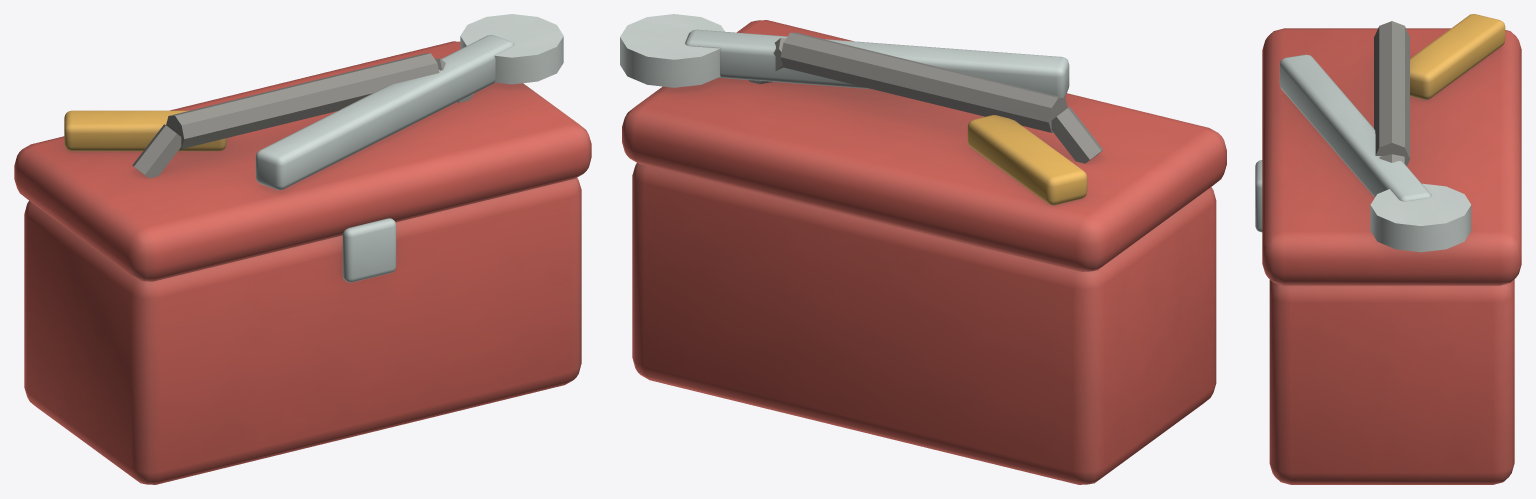
The model's file is Toolbox.fbx.
3 renders of one model, left to right at view 1: azimuth 30°, elevation 25°; view 2: azimuth 150°, elevation 25°; view 3: azimuth 270°, elevation 25°, orthographic. The views are drawn at different scales.
Visible parts, largest first — view 1: Toolbox; view 2: Toolbox; view 3: Toolbox.
Part boxes in pixels (box(x1,y1,x2,y2)): Toolbox: box(14, 14, 591, 484); Toolbox: box(620, 14, 1226, 484); Toolbox: box(1255, 14, 1521, 484).
Size of the model in its own units: 78 by 46.5 by 37.
